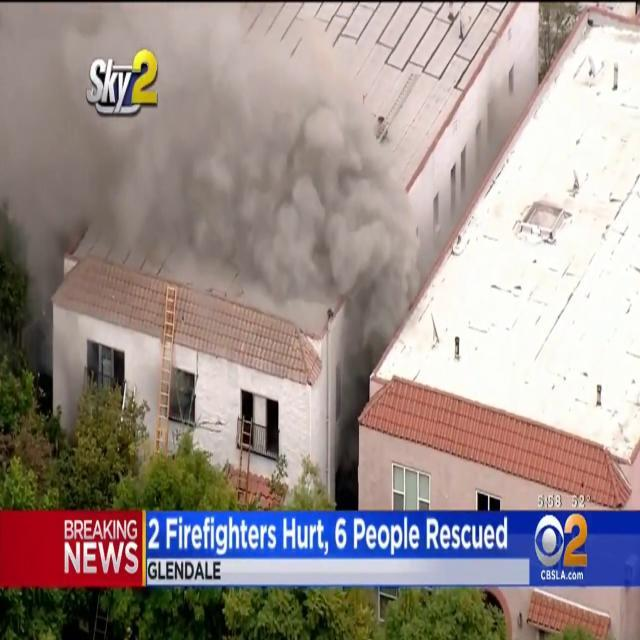Smoke: (0, 16, 196, 370), (293, 82, 417, 474)
